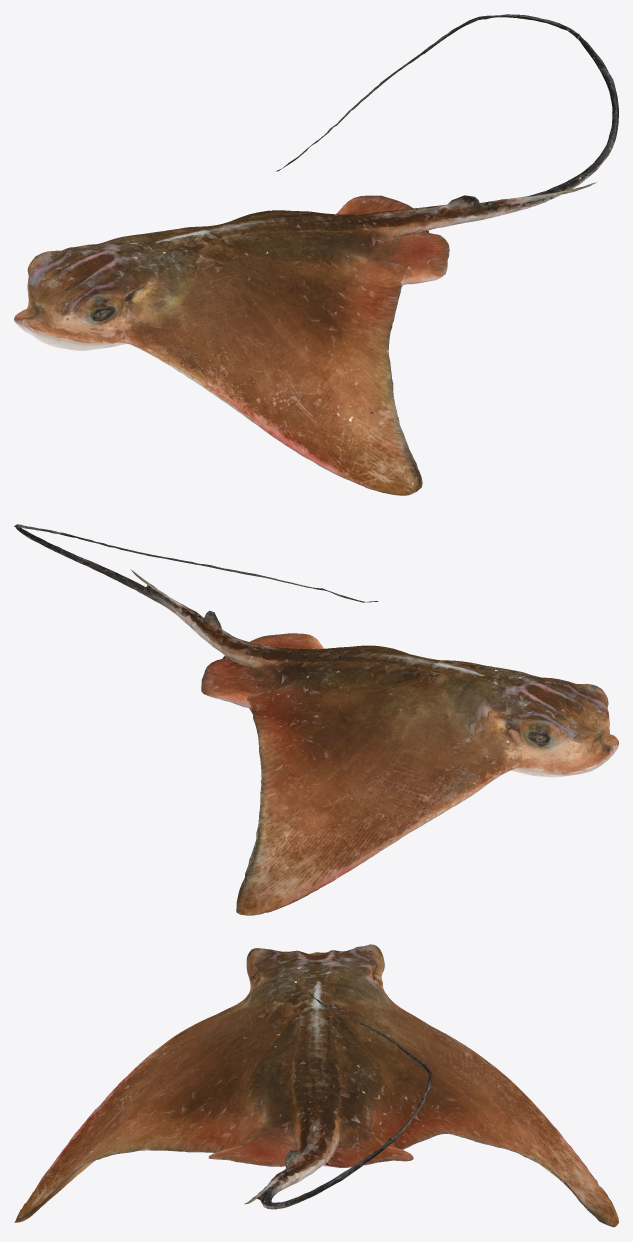
Rendered from ray.glb.
The picture shows the model from 3 angles, top to bottom: view 1: azimuth 30°, elevation 25°; view 2: azimuth 150°, elevation 25°; view 3: azimuth 270°, elevation 25°; orthographic projection. The views are drawn at different scales.
Parts seen in each view (by area): view 1: body; view 2: body; view 3: body.
Boxes of the visible parts, x1=… form: body: x1=14, y1=14, x2=618, y2=495; body: x1=14, y1=524, x2=618, y2=915; body: x1=14, y1=944, x2=618, y2=1227.
Bounding box in the file's own units: 1 × 0.4262 × 0.8233.
Materials: 1 (1 with a texture image).
